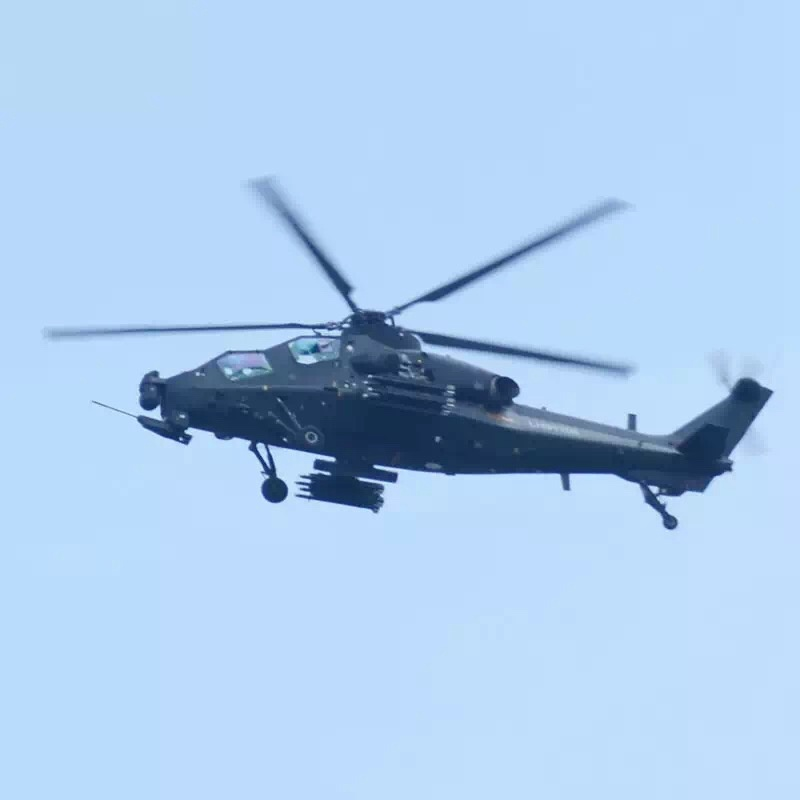airplane: (24, 178, 768, 545)
